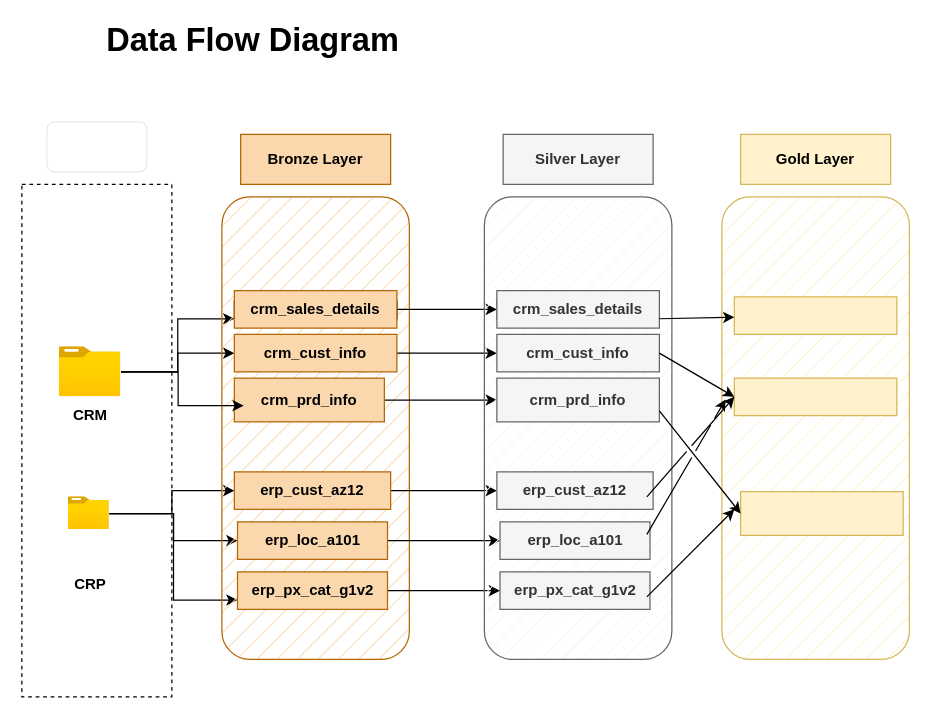
This 931x719 diagram has some shape labels left out. Each missing label, with the centre of its shape:
dim_customers: (x=815, y=396)
dim_products: (x=821, y=512)
fact_sales: (x=815, y=315)
Sources: (x=96, y=146)
